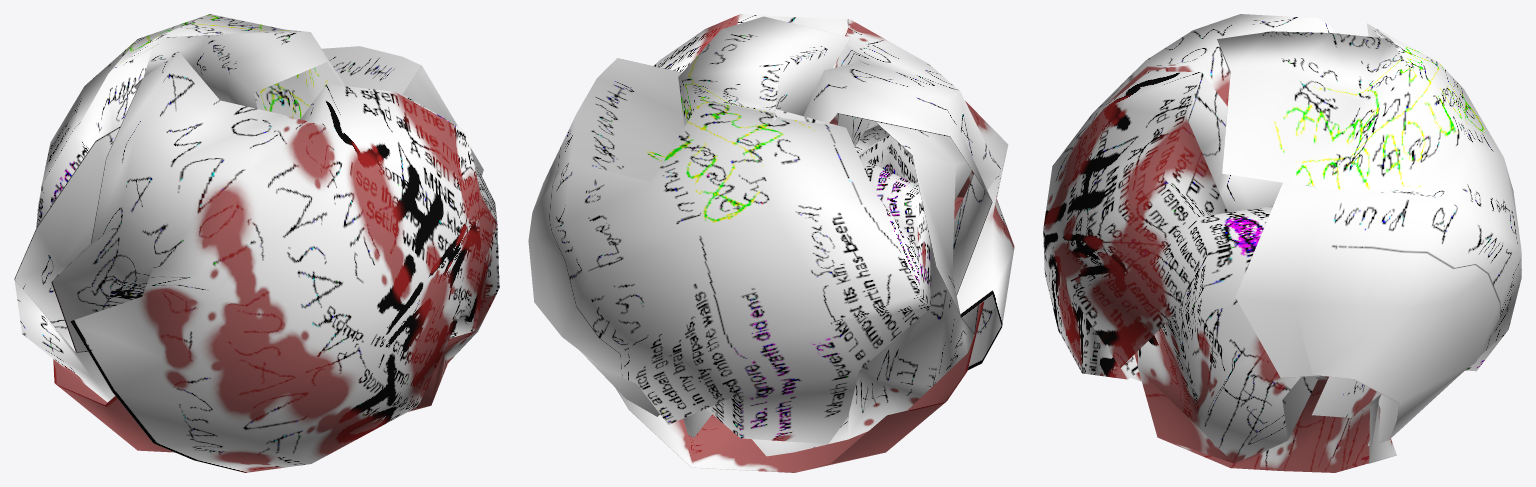
File: crumpled_paper.glb
The picture shows the model from 3 angles, left to right: view 1: azimuth 30°, elevation 25°; view 2: azimuth 150°, elevation 25°; view 3: azimuth 270°, elevation 25°; orthographic projection.
Visible parts, largest first — view 1: crumpled_paper; view 2: crumpled_paper; view 3: crumpled_paper.
Part boxes in pixels (x1=…): crumpled_paper: x1=14, y1=14, x2=499, y2=472; crumpled_paper: x1=528, y1=14, x2=1014, y2=472; crumpled_paper: x1=1043, y1=14, x2=1521, y2=472.
Size of the model in its own units: 0.4217 by 0.381 by 0.4027.
1 material, 1 textured.
